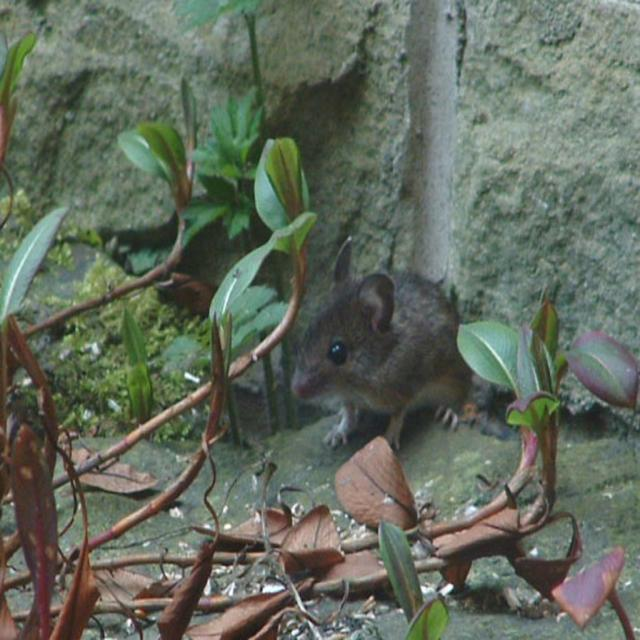rat: (290, 266, 472, 452)
